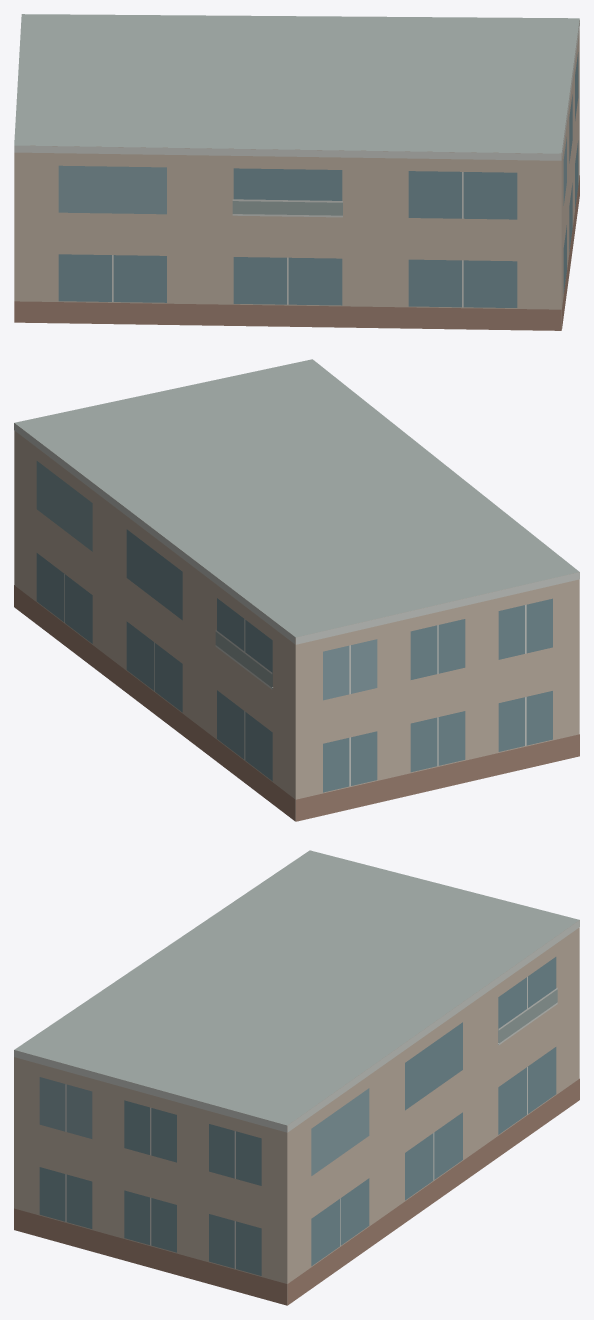
The model's file is survey-upis-32892789.glb.
The picture shows the model from 3 angles, top to bottom: view 1: azimuth 30°, elevation 25°; view 2: azimuth 150°, elevation 25°; view 3: azimuth 270°, elevation 25°; orthographic projection. The views are drawn at different scales.
Parts seen in each view (by area): view 1: survey-upis-32892789.tmp; view 2: survey-upis-32892789.tmp; view 3: survey-upis-32892789.tmp.
Part boxes in pixels (x1,y1,x2,y2): survey-upis-32892789.tmp: (14, 14, 579, 330); survey-upis-32892789.tmp: (14, 359, 579, 821); survey-upis-32892789.tmp: (14, 850, 579, 1305).
Size of the model in its own units: 20 by 6.1 by 17.37.
